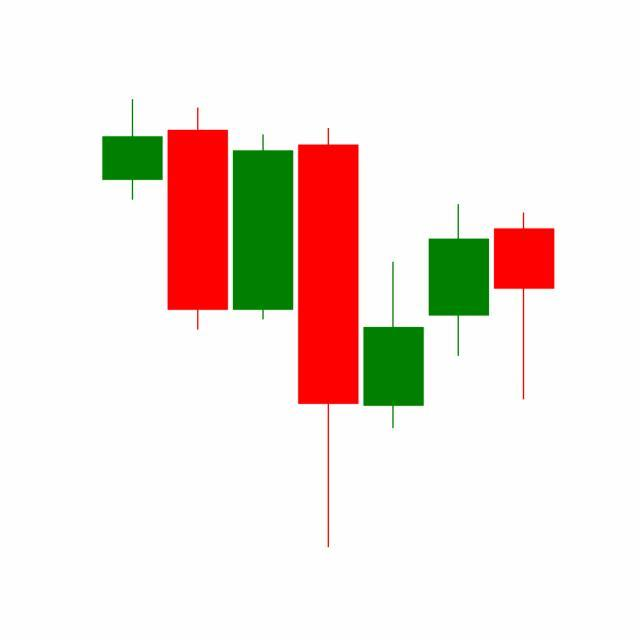Hikkake Pattern: (165, 103, 492, 549)
